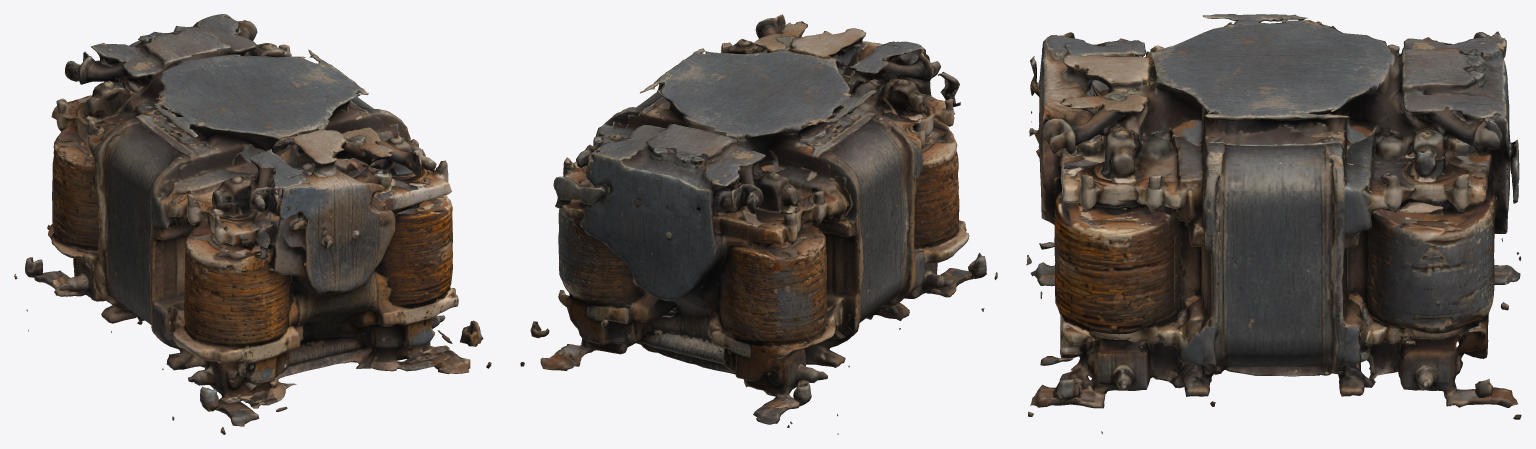
The model's file is TransformerModule.glb.
3 renders of one model, left to right at view 1: azimuth 30°, elevation 25°; view 2: azimuth 150°, elevation 25°; view 3: azimuth 270°, elevation 25°, orthographic. The views are drawn at different scales.
Visible parts, largest first — view 1: texture_mapping; view 2: texture_mapping; view 3: texture_mapping.
Part boxes in pixels (x1=…): texture_mapping: x1=14, y1=14, x2=491, y2=434; texture_mapping: x1=520, y1=14, x2=997, y2=434; texture_mapping: x1=1026, y1=14, x2=1521, y2=434.
Bounding box in the file's own units: 0.7319 × 0.5878 × 0.8721.
1 material, 1 textured.
